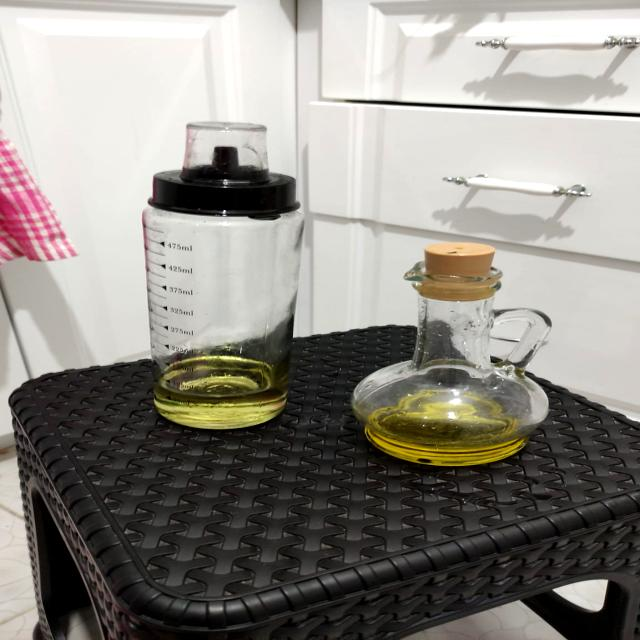olive oil: (120, 135, 333, 445), (344, 233, 583, 473)
